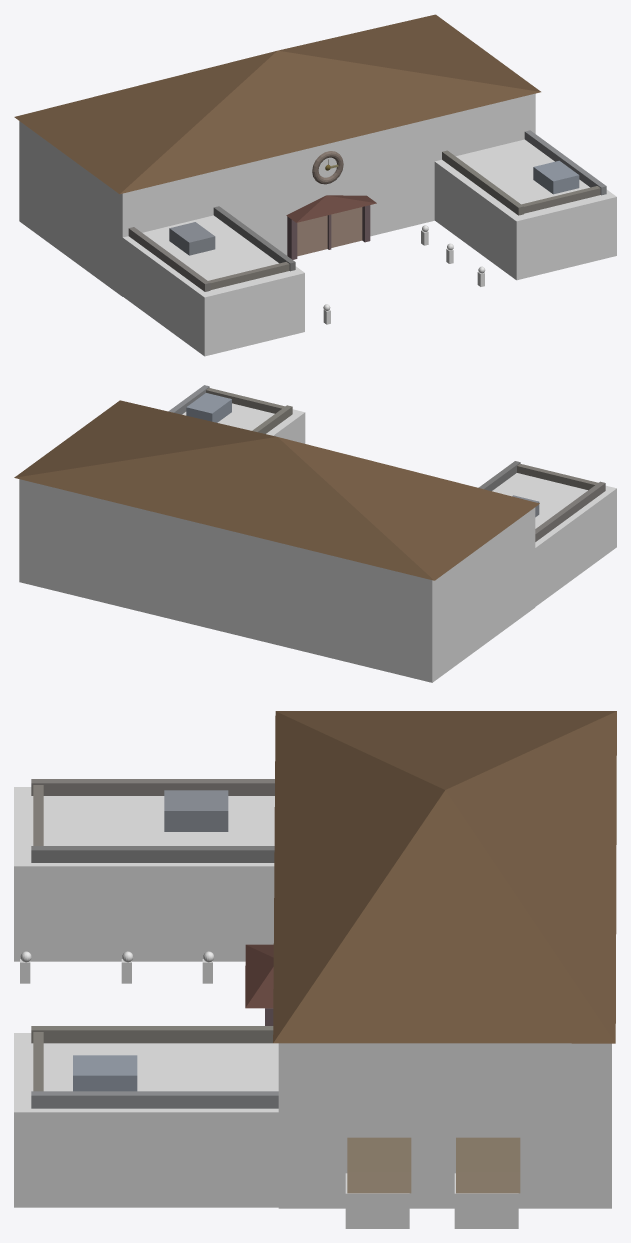
The model's file is schoollowpoly.fbx.
3 views of the same model, one above another, from view 1: azimuth 30°, elevation 25°; view 2: azimuth 150°, elevation 25°; view 3: azimuth 270°, elevation 25° (orthographic). The views are drawn at different scales.
Visible parts, largest first — view 1: Cube, Cone, Cube.003, Cone.001, Cube.015, Cube.016, Cube.009, Cube.013, Cube.010, Cube.012, Cube.014, Cube.011 (+1 smaller); view 2: Cube, Cone, Cube.016, Cube.009, Cube.014, Cube.011, Cube.013, Cube.010; view 3: Cube, Cone, Cube.017, Cube.012, Cube.013, Cube.010, Cube.009, Cube.018, Cube.019, Cube.015, Cube.016, Cone.001.
Part boxes in pixels (box(x1,y1,x2,y2)): Cube: box(19, 93, 616, 356); Cone: box(14, 14, 540, 194); Cube.003: box(297, 207, 362, 256); Cone.001: box(286, 195, 376, 222); Cube.015: box(169, 222, 215, 255); Cube.016: box(533, 160, 579, 194); Cube.009: box(128, 227, 210, 291); Cube.013: box(442, 150, 523, 215); Cube.010: box(213, 206, 295, 271); Cube.012: box(524, 130, 606, 195); Cube.014: box(208, 261, 289, 289); Cube.011: box(521, 186, 600, 213); Cube: box(19, 403, 616, 682); Cone: box(14, 400, 539, 580); Cube.016: box(186, 393, 231, 422); Cube.009: box(535, 481, 605, 541); Cube.014: box(517, 463, 598, 490); Cube.011: box(206, 388, 284, 413); Cube.013: box(252, 405, 292, 433); Cube.010: box(478, 461, 520, 491); Cube: box(14, 787, 611, 1208); Cone: box(273, 711, 616, 1043); Cube.017: box(345, 1173, 518, 1228); Cube.012: box(31, 1091, 278, 1108); Cube.013: box(31, 1026, 273, 1043); Cube.010: box(31, 846, 274, 862); Cube.009: box(31, 779, 274, 795); Cube.018: box(456, 1137, 520, 1193); Cube.019: box(347, 1137, 411, 1193); Cube.015: box(164, 790, 228, 831); Cube.016: box(73, 1055, 137, 1091); Cone.001: box(245, 944, 273, 1008).
Size of the model in its own units: 265 by 90.51 by 193.
